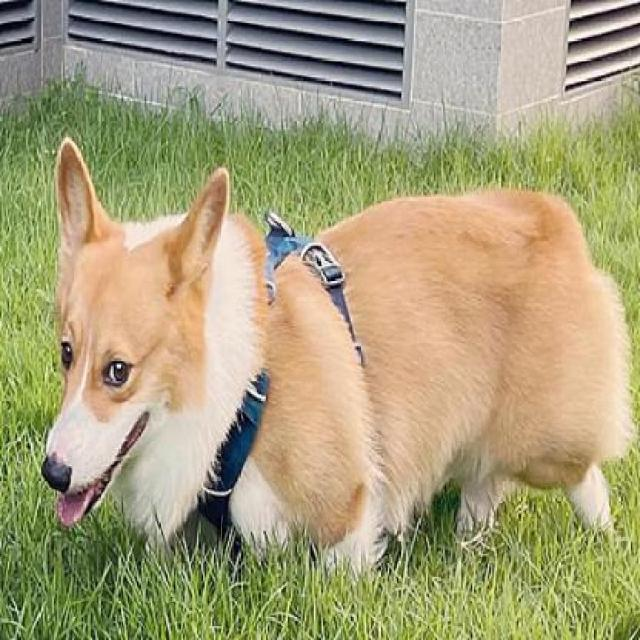Dog: (40, 130, 638, 576)
